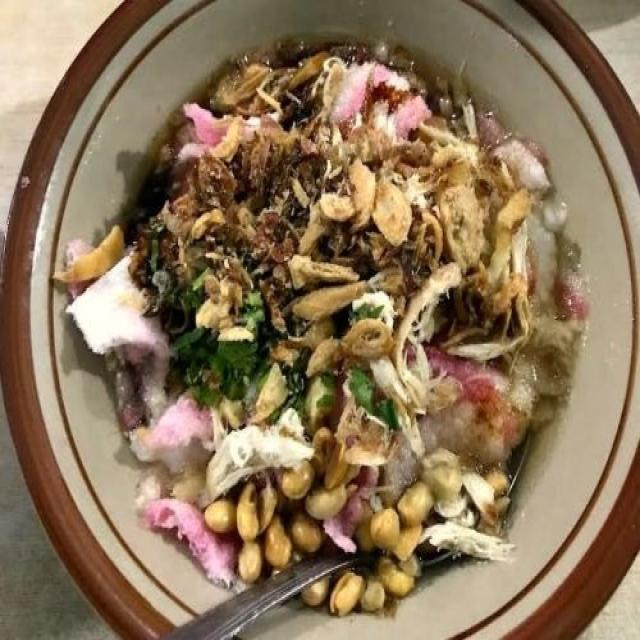bubur ayam: (109, 33, 590, 612)
mangkuk: (2, 1, 640, 640)
